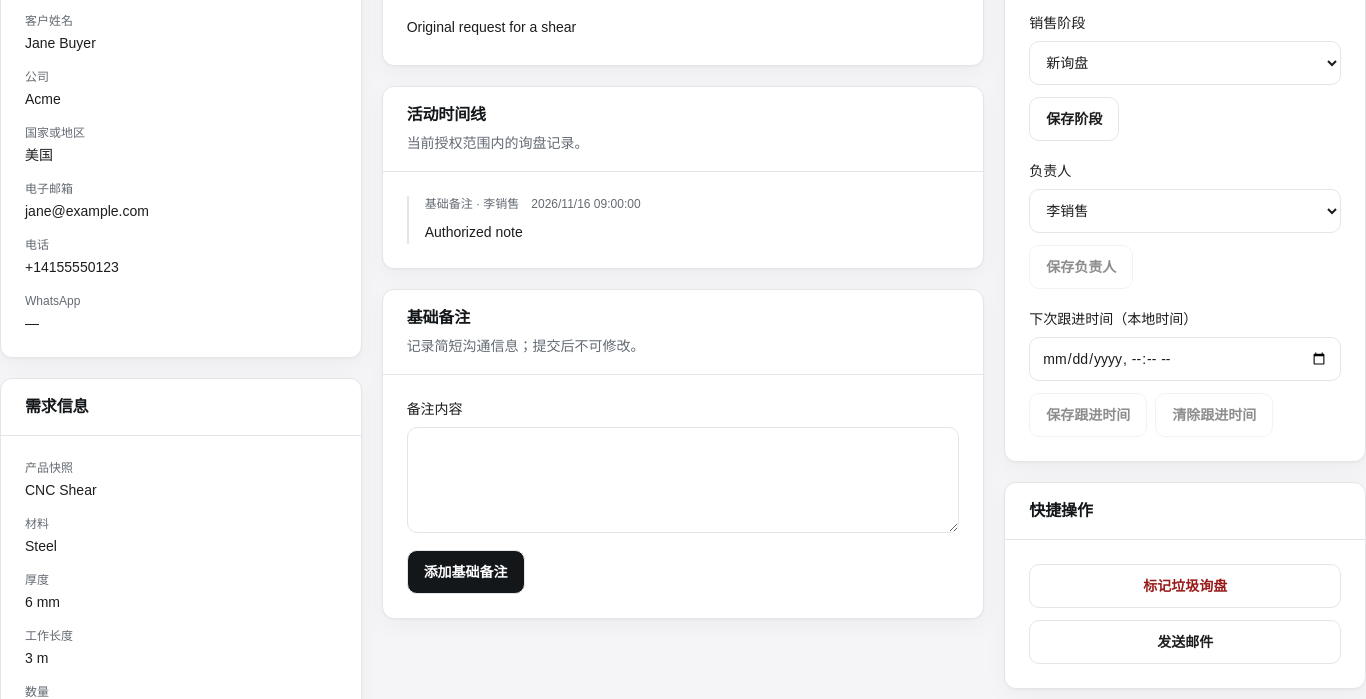
it: next follow-up compatibility editor › saves a local date/time with the optimistic version and refreshes
Type "2030-02-03T14:30" into the field labelled "下次跟进时间（本地时间）" at (1185, 359), box [1029,337,1341,381]
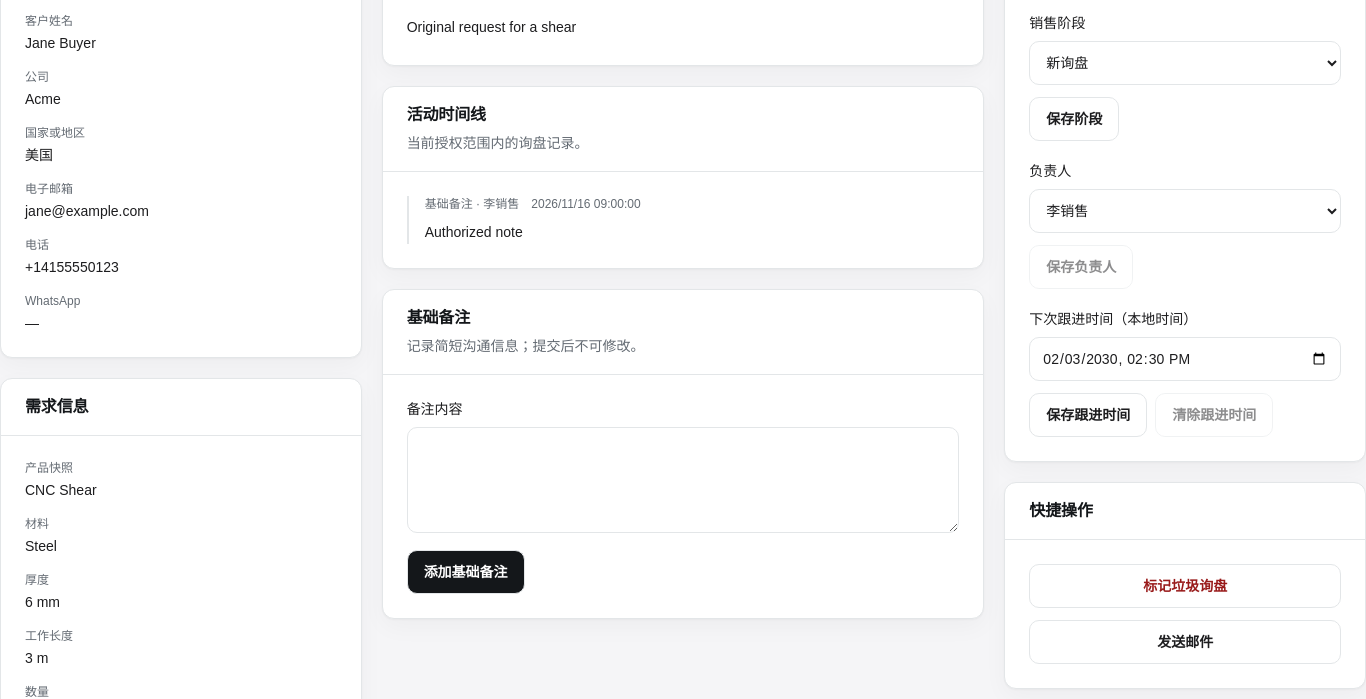
Click the button "保存跟进时间" at (1088, 415), box [1029,393,1147,437]
(page scrolled)
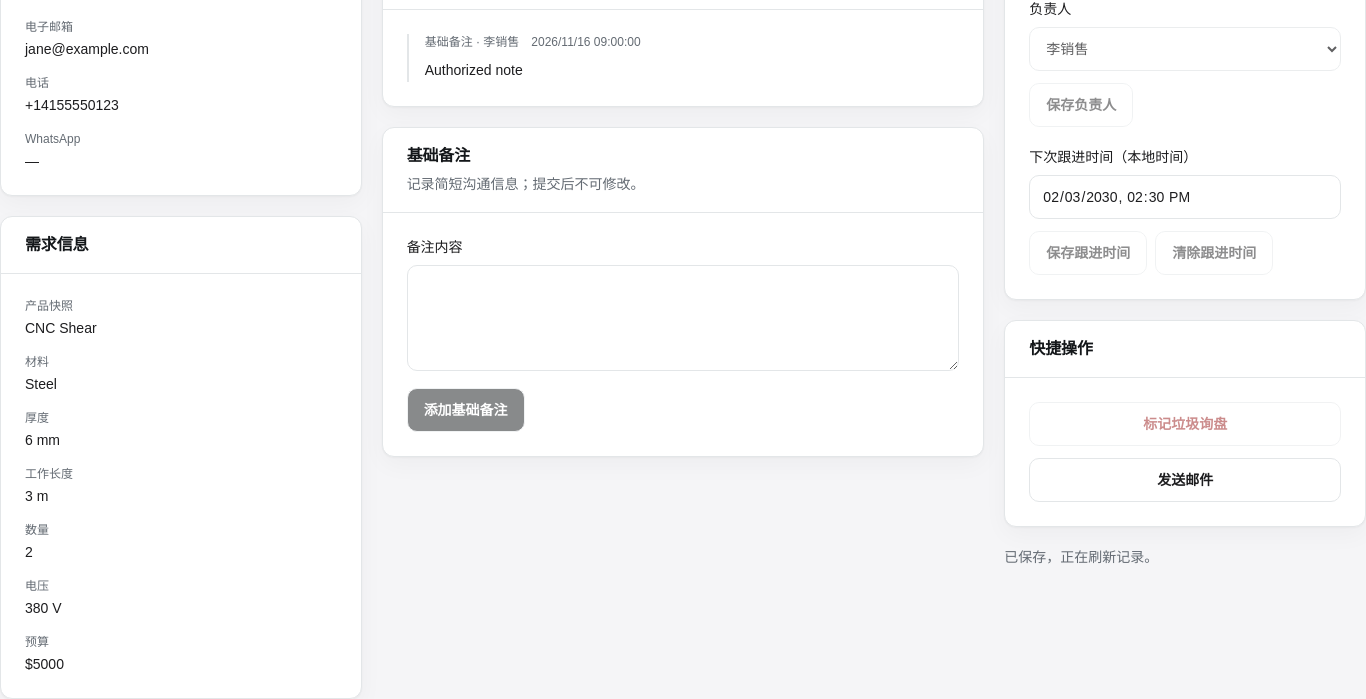
Expected: the message shows "已保存", [1004,549,1158,565]
